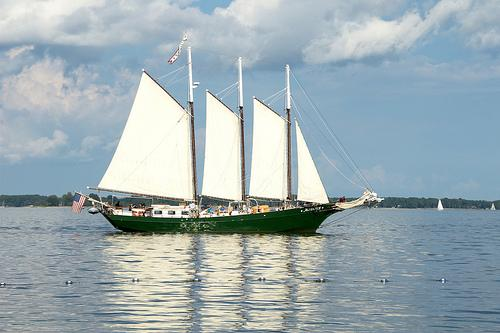Ship: (90, 48, 375, 235)
